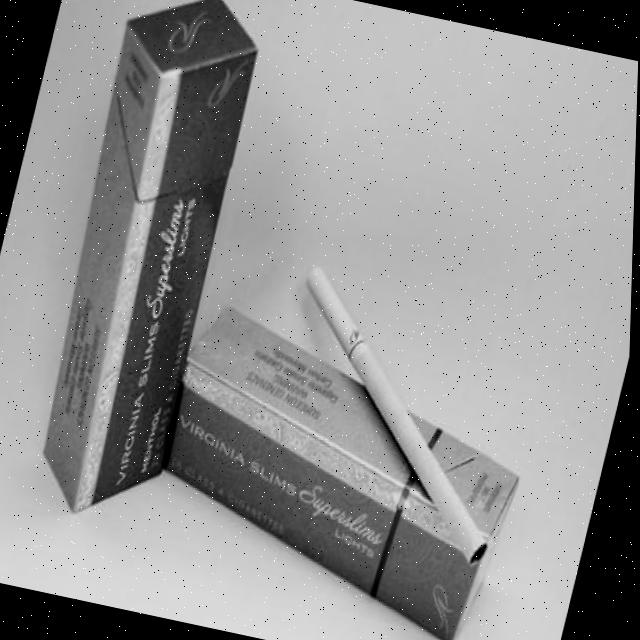cigarette: (305, 268, 486, 560)
